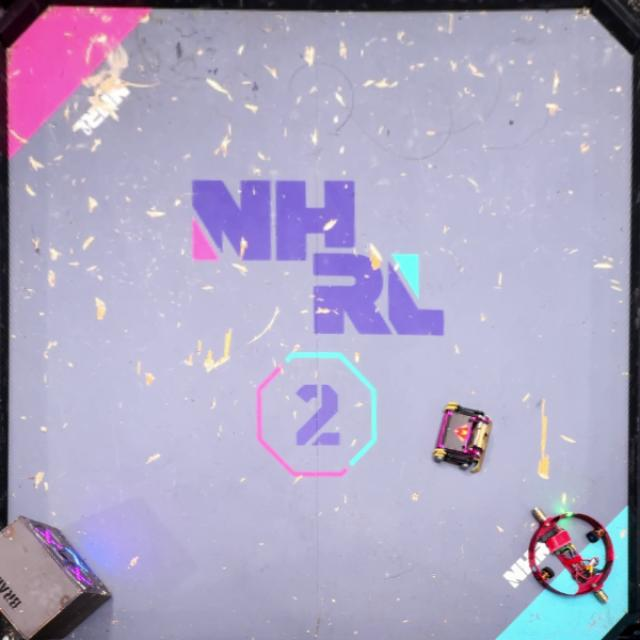housebot: (0, 515, 115, 640)
robot: (529, 507, 613, 602), (434, 403, 492, 474)
